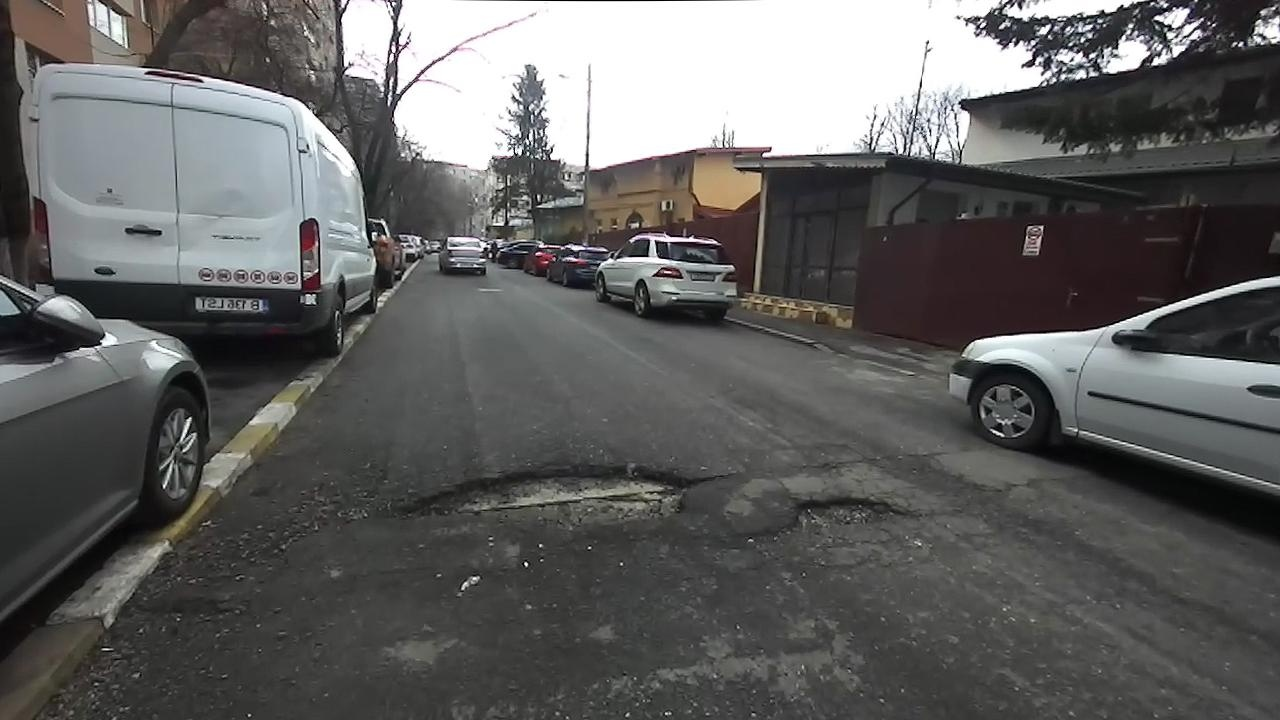pothole: (377, 453, 730, 537), (759, 491, 918, 542)
